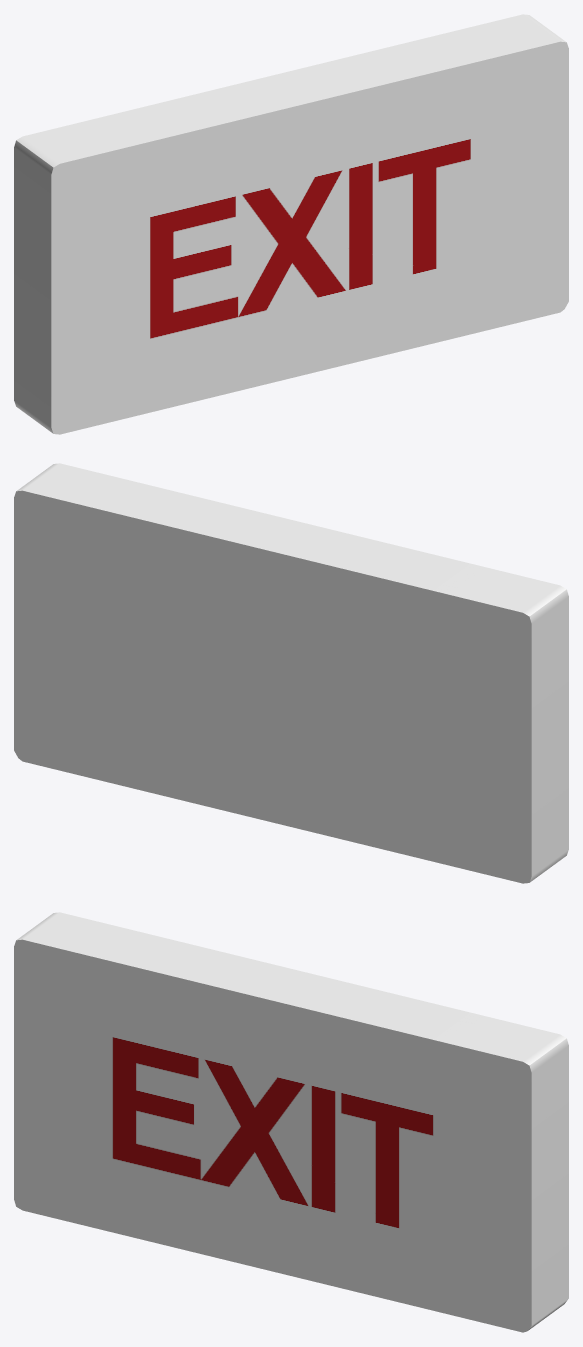
File: exit.fbx
3 renders of one model, top to bottom at view 1: azimuth 30°, elevation 25°; view 2: azimuth 150°, elevation 25°; view 3: azimuth 330°, elevation 25°, orthographic.
Visible parts, largest first — view 1: pCube1; view 2: pCube1; view 3: pCube1.
Part boxes in pixels (left/top/right/bottom): pCube1: left=14, top=14, right=568, bottom=434; pCube1: left=14, top=463, right=568, bottom=883; pCube1: left=14, top=912, right=568, bottom=1332.
Size of the model in its own units: 120 by 60 by 15.
